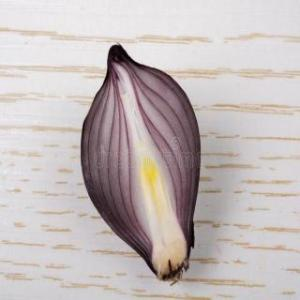onion: (77, 42, 200, 284)
